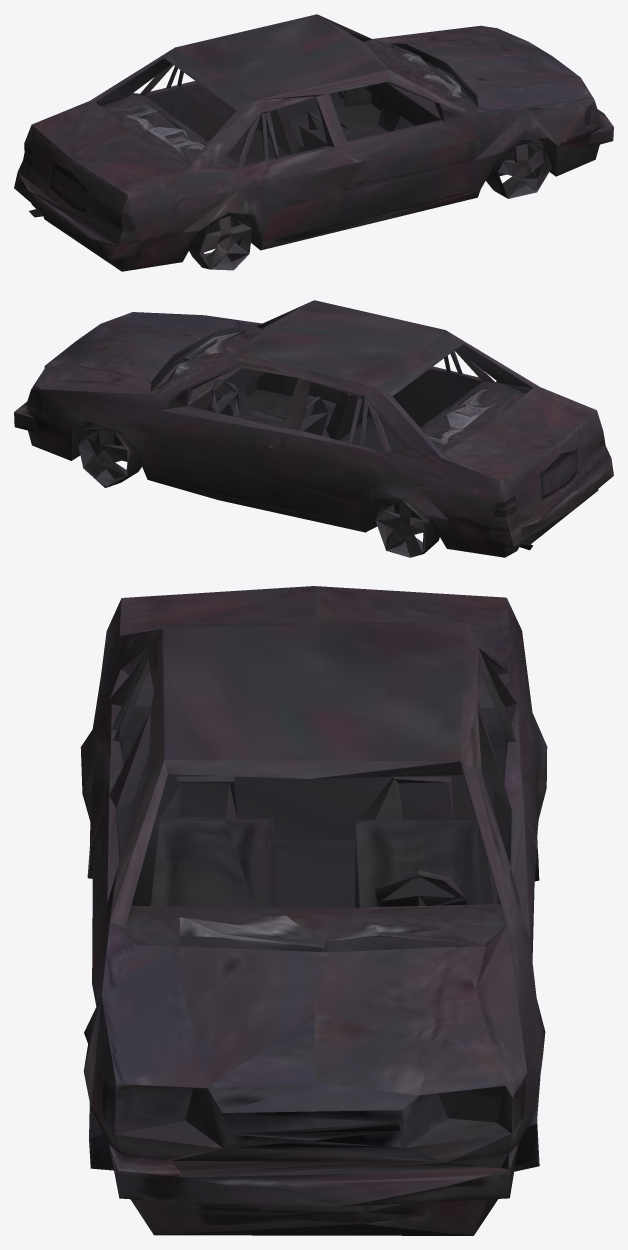
Rendered from bg_wasteland_wreck_1_lod0.glb.
3 views of the same model, one above another, from view 1: azimuth 30°, elevation 25°; view 2: azimuth 150°, elevation 25°; view 3: azimuth 270°, elevation 25° (orthographic). The views are drawn at different scales.
Visible parts, largest first — view 1: body; view 2: body; view 3: body.
Part boxes in pixels (left/top/right/bottom): body: left=14, top=14, right=613, bottom=271; body: left=14, top=300, right=613, bottom=557; body: left=80, top=586, right=547, bottom=1235.
Bounding box in the file's own units: 4.5 × 1.25 × 1.76.
1 material, 1 textured.
